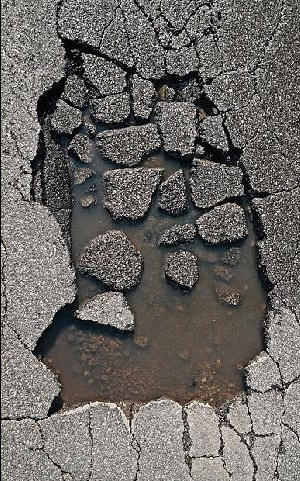pothole: (24, 28, 277, 422)
